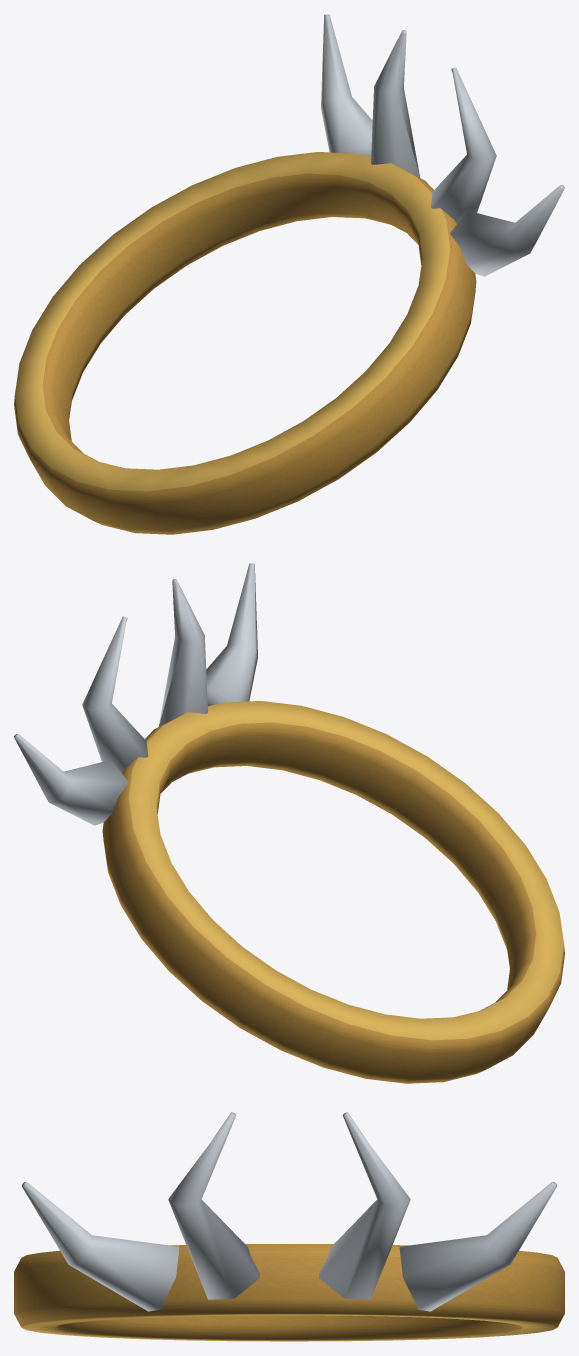
The model's file is item_ring4.glb.
The picture shows the model from 3 angles, top to bottom: view 1: azimuth 30°, elevation 25°; view 2: azimuth 150°, elevation 25°; view 3: azimuth 270°, elevation 25°; orthographic projection. The views are drawn at different scales.
Visible parts, largest first — view 1: jewellery_ring4; view 2: jewellery_ring4; view 3: jewellery_ring4.
Boxes of the visible parts, x1,y1,x2,y2 form: jewellery_ring4: (14,14,564,534); jewellery_ring4: (14,563,564,1083); jewellery_ring4: (14,1112,564,1341).
Bounding box in the file's own units: 0.7394 × 0.6691 × 0.79.
3 materials, 1 textured.
